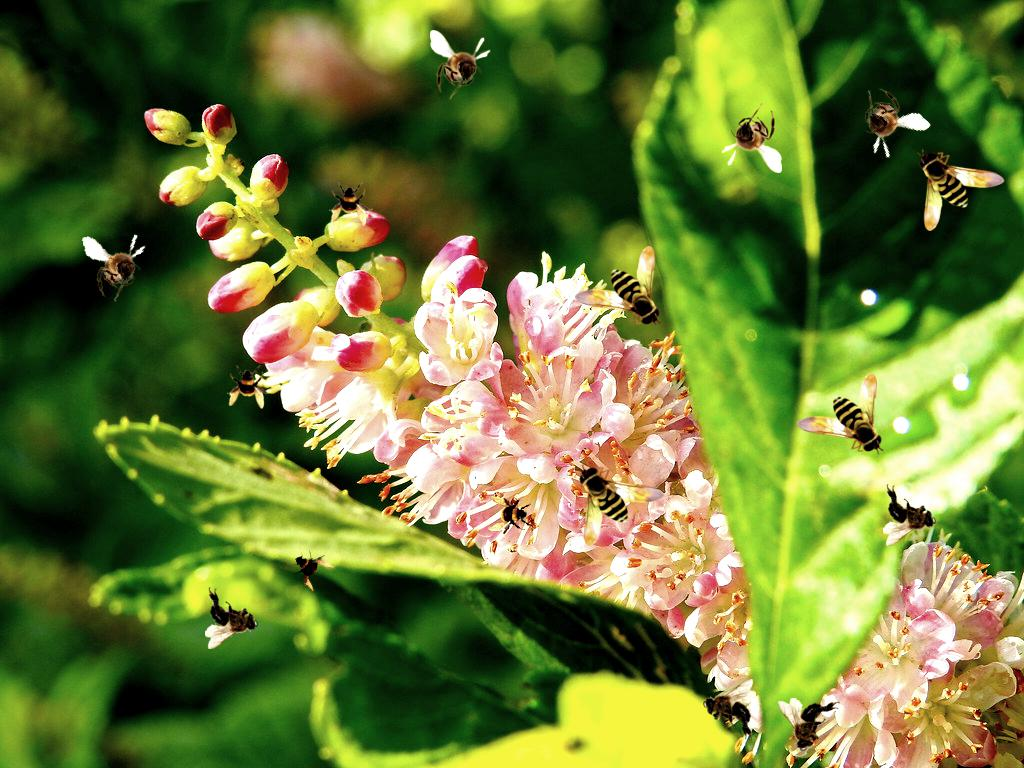Bee: (839, 75, 932, 169), (577, 464, 665, 546), (574, 246, 662, 328), (917, 149, 1005, 231), (796, 373, 884, 455), (81, 225, 156, 307), (430, 30, 491, 100), (721, 103, 782, 173), (279, 535, 341, 597), (205, 587, 258, 649), (778, 698, 840, 751), (883, 484, 936, 546), (703, 679, 756, 741), (329, 182, 373, 226), (227, 365, 271, 409), (488, 494, 532, 538)
